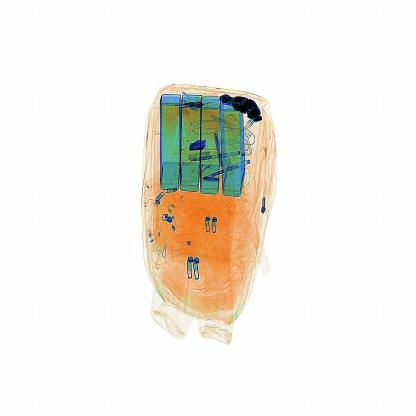knife: (189, 138, 209, 157)
